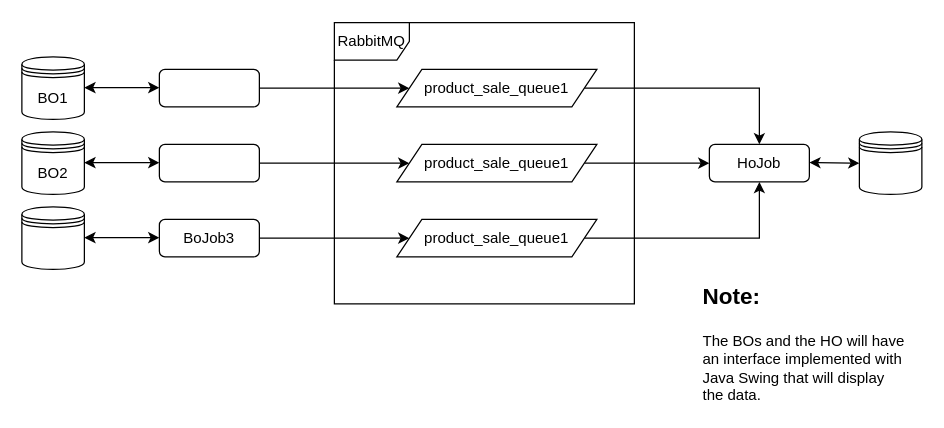
Image size: 944x428. Some labels were removed from this diagram. The shapes that lost their labels are listed below. From the top down, each one's centre as x and y in pixels, then its label:
the point at 208,87: BoJob1
the point at 208,162: BoJob2
the point at 890,162: HO
the point at 52,237: BO3
